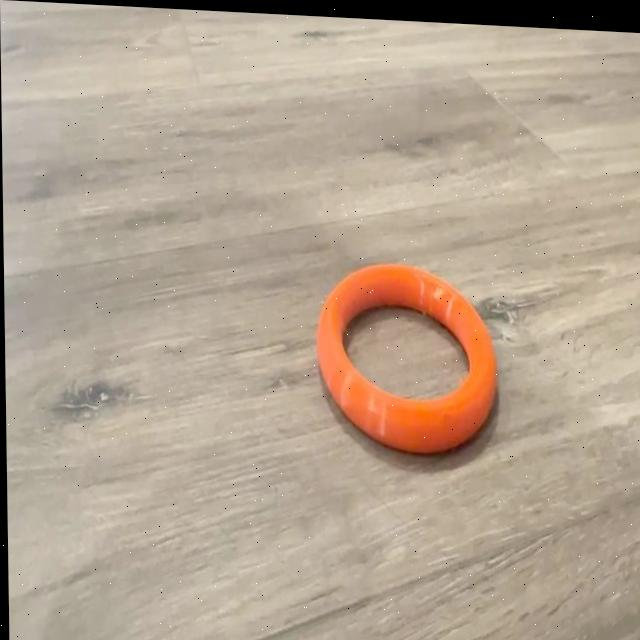note: (315, 254, 499, 456)
